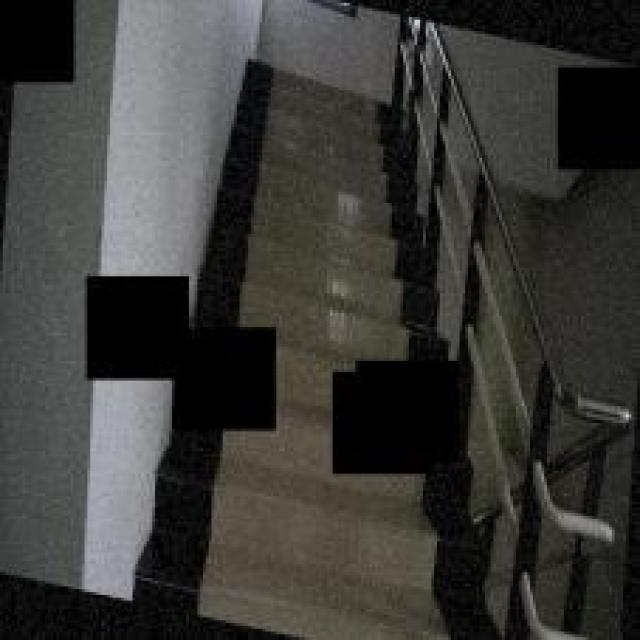upstair: (255, 55, 382, 328)
